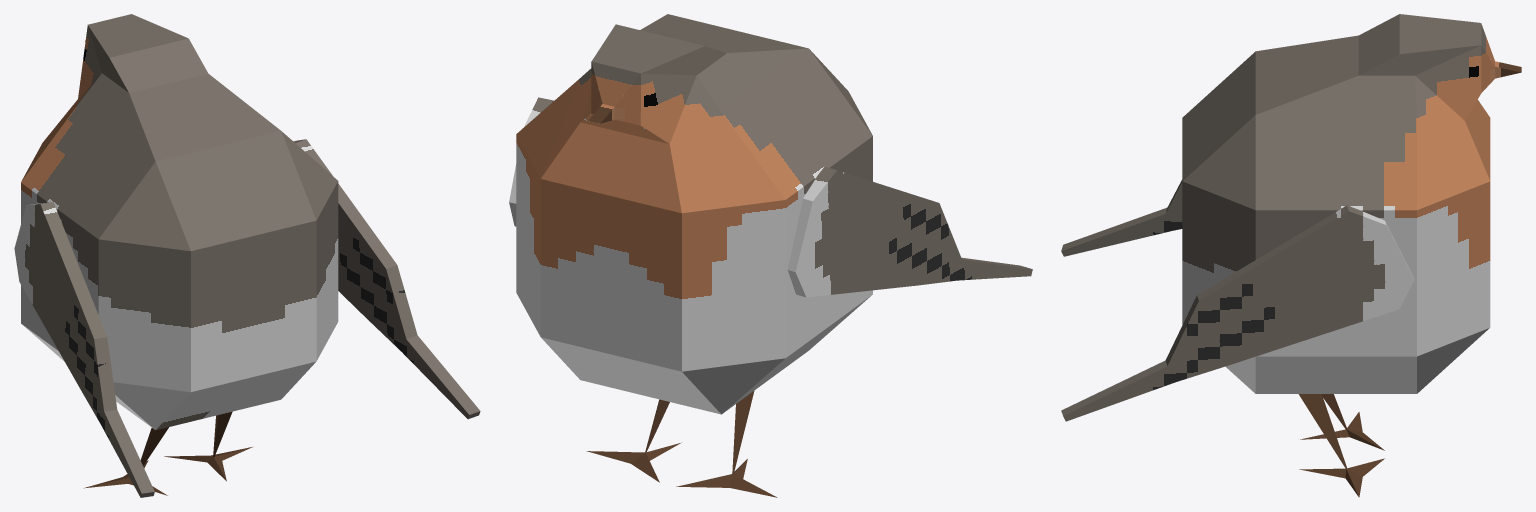
File: fatbird.glb
3 renders of one model, left to right at view 1: azimuth 30°, elevation 25°; view 2: azimuth 150°, elevation 25°; view 3: azimuth 270°, elevation 25°, orthographic. The views are drawn at different scales.
Parts seen in each view (by area): view 1: Cube; view 2: Cube; view 3: Cube.
Boxes of the visible parts, x1,y1,x2,y2 form: Cube: [14, 14, 480, 497]; Cube: [509, 14, 1032, 497]; Cube: [1061, 14, 1521, 497].
Size of the model in its own units: 6.06 by 6.93 by 6.88.
1 material, 1 textured.
